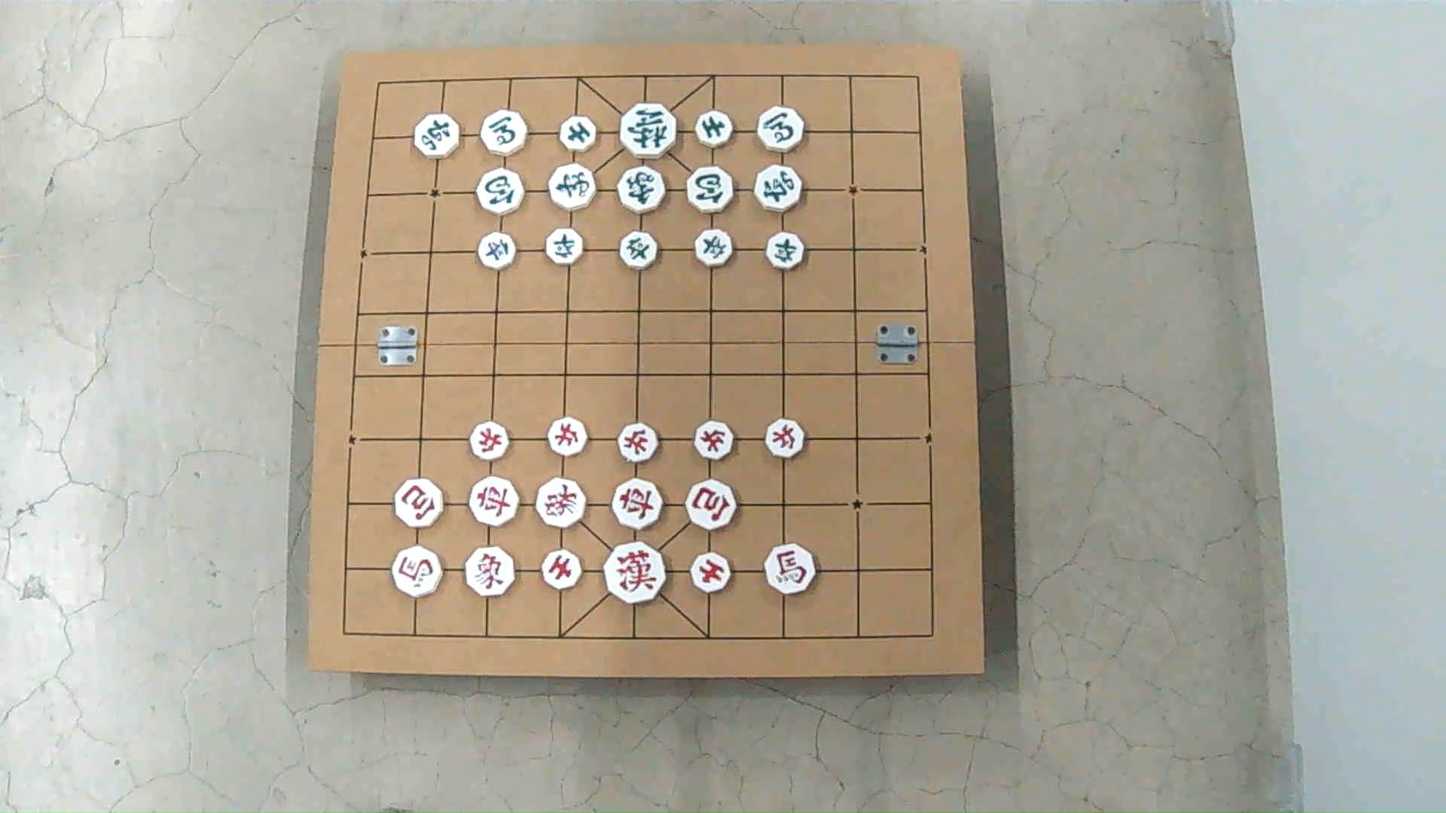cha_green: (755, 165, 804, 212), (413, 113, 459, 158)
cha_red: (612, 478, 663, 528), (468, 477, 519, 526)
jol_green: (619, 231, 657, 269), (477, 232, 515, 269), (767, 232, 805, 269), (546, 227, 583, 265), (696, 229, 733, 266)
jol_red: (468, 421, 510, 461), (618, 422, 658, 462), (765, 419, 805, 458), (695, 420, 734, 460), (548, 417, 587, 456)
ma_green: (480, 109, 529, 155), (757, 106, 805, 151)
ma_red: (392, 546, 443, 596), (765, 544, 815, 594)
po_green: (475, 167, 523, 215), (686, 166, 735, 213)
po_red: (686, 480, 737, 530), (394, 478, 444, 527)
sa_green: (695, 110, 734, 148), (558, 115, 597, 151)
sa_red: (691, 552, 731, 592), (541, 550, 582, 589)
sang_green: (617, 165, 667, 213), (548, 163, 597, 210)
sang_red: (536, 478, 585, 527), (465, 547, 515, 595)
wang_green: (620, 102, 678, 158)
wang_red: (605, 541, 666, 603)
